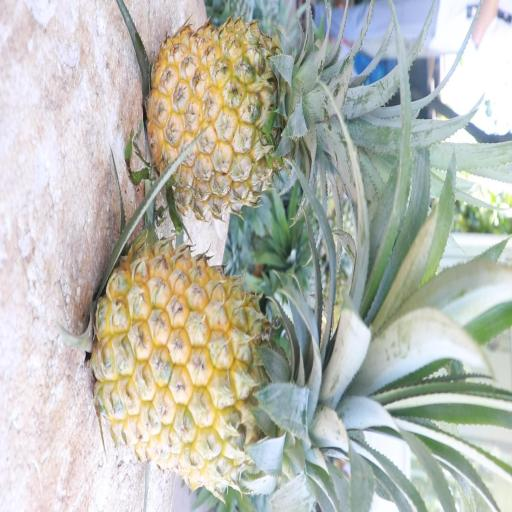Pineapple - v8 v1: (88, 233, 386, 493), (143, 16, 358, 228), (216, 154, 226, 158), (223, 112, 232, 112)
